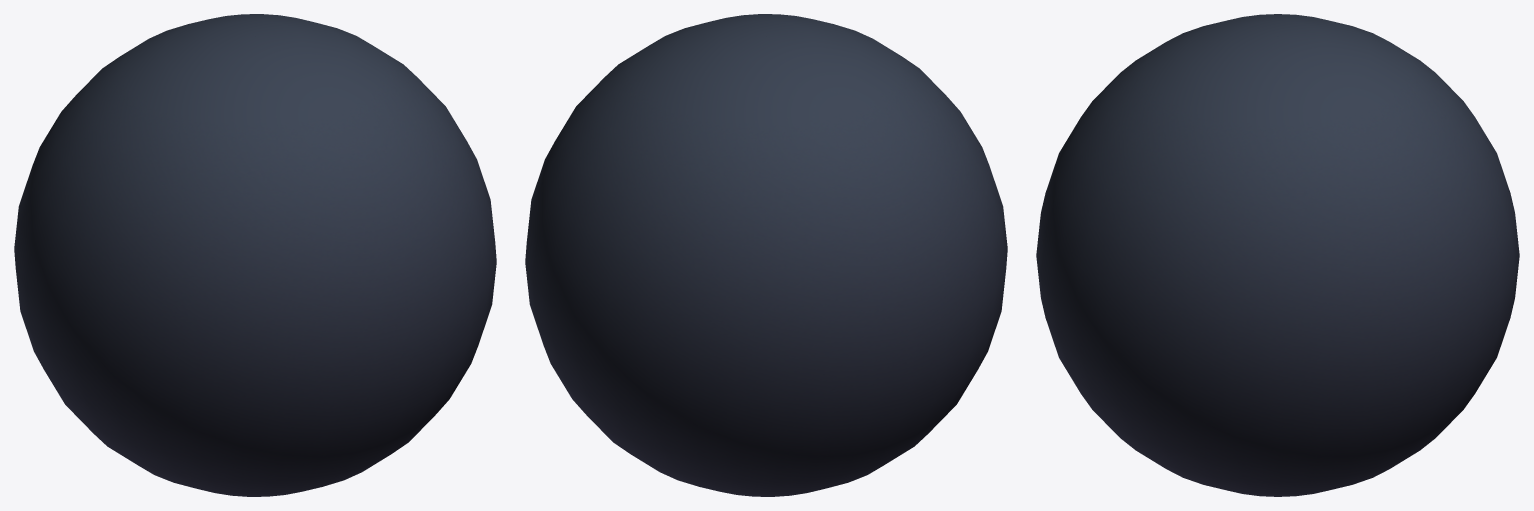
The model's file is stage_4_bellydance.fbx.
3 views of the same model, side by side, from view 1: azimuth 30°, elevation 25°; view 2: azimuth 150°, elevation 25°; view 3: azimuth 270°, elevation 25° (orthographic).
Parts seen in each view (by area): view 1: stage4_background_wall; view 2: stage4_background_wall; view 3: stage4_background_wall.
Boxes of the visible parts, <box> form: stage4_background_wall: <box>14,14,496,496</box>; stage4_background_wall: <box>525,14,1007,496</box>; stage4_background_wall: <box>1036,14,1519,496</box>.
Size of the model in its own units: 4000 by 4000 by 4000.
